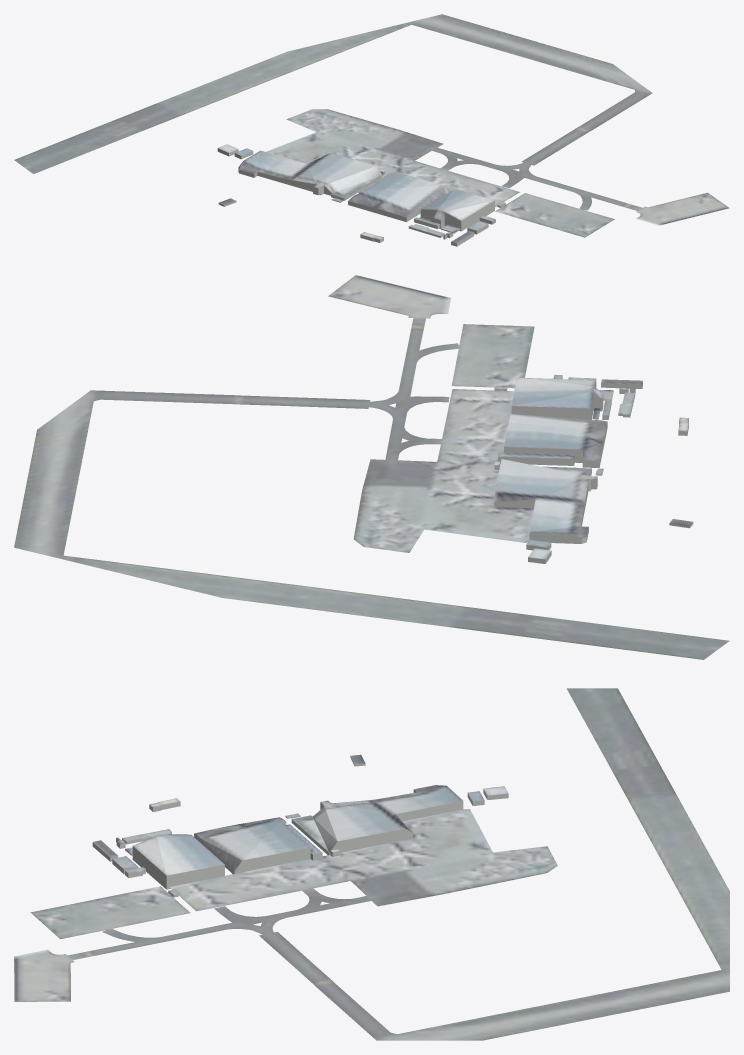
Rendered from LFSB_0_-4.glb.
3 views of the same model, one above another, from view 1: azimuth 30°, elevation 25°; view 2: azimuth 150°, elevation 25°; view 3: azimuth 270°, elevation 25° (orthographic). The views are drawn at different scales.
Parts seen in each view (by area): view 1: pavement_LFSB_pavement_5213_2541, pavement_LFSB_pavement_5212_2541, pavement_LFSB_pavement_5213_2540, building_BATIMENT0000000358877842, building_BATIMENT0000000358877841, building_BATIMENT0000000358877836; view 2: pavement_LFSB_pavement_5213_2541, pavement_LFSB_pavement_5212_2541, pavement_LFSB_pavement_5213_2540, building_BATIMENT0000000358877842, building_BATIMENT0000000358877841, building_BATIMENT0000000358877836, building_BATIMENT0000002493913664; view 3: pavement_LFSB_pavement_5213_2541, pavement_LFSB_pavement_5212_2541, pavement_LFSB_pavement_5213_2540, building_BATIMENT0000000358877842, building_BATIMENT0000000358877841, building_BATIMENT0000000358877836.
Part boxes in pixels (x1,y1,x2,y2): pavement_LFSB_pavement_5213_2541: (251,14,652,175); pavement_LFSB_pavement_5212_2541: (14,66,394,176); pavement_LFSB_pavement_5213_2540: (410,132,729,237); building_BATIMENT0000000358877842: (238,150,382,200); building_BATIMENT0000000358877841: (348,172,447,221); building_BATIMENT0000000358877836: (420,189,494,231); pavement_LFSB_pavement_5213_2541: (14,390,490,605); pavement_LFSB_pavement_5212_2541: (286,456,729,659); pavement_LFSB_pavement_5213_2540: (243,275,534,456); building_BATIMENT0000000358877842: (494,459,591,543); building_BATIMENT0000000358877841: (504,414,607,467); building_BATIMENT0000000358877836: (511,377,603,419); building_BATIMENT0000002493913664: (498,452,574,465); pavement_LFSB_pavement_5213_2541: (312,864,729,1040); pavement_LFSB_pavement_5212_2541: (312,688,714,864); pavement_LFSB_pavement_5213_2540: (14,864,312,1001); building_BATIMENT0000000358877842: (291,785,463,855); building_BATIMENT0000000358877841: (194,817,310,874); building_BATIMENT0000000358877836: (132,834,224,889).
Size of the model in its own units: 1000 by 25.4 by 858.
Materials: 3 (2 with a texture image).
